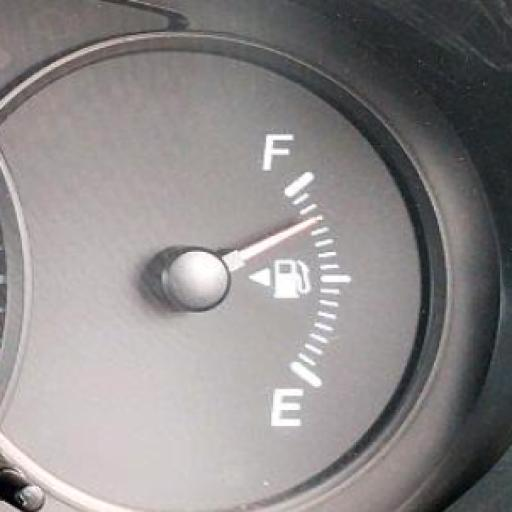empty: (270, 384, 304, 430)
fuel_icon: (250, 256, 314, 300)
full: (260, 128, 296, 176)
guage_area: (2, 25, 451, 512)
needle_center: (149, 240, 245, 314)
needle_tip: (292, 212, 325, 237)
